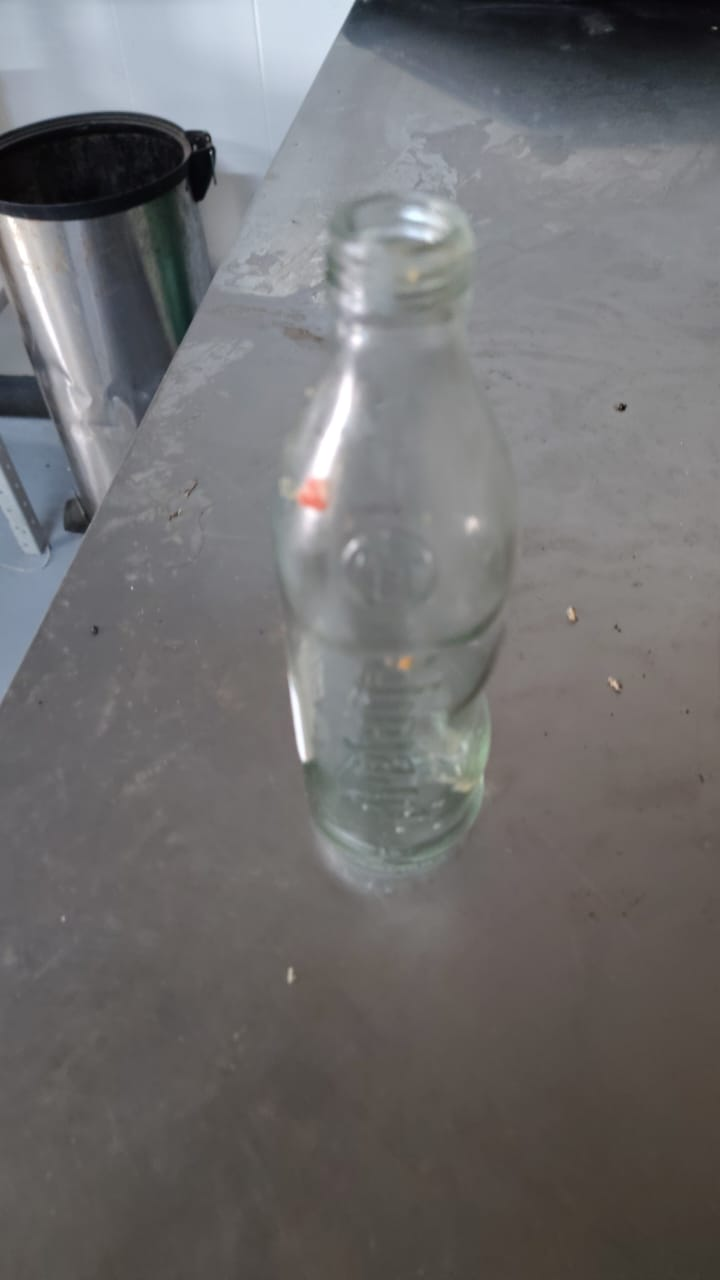Vidrio: (278, 189, 509, 866)
